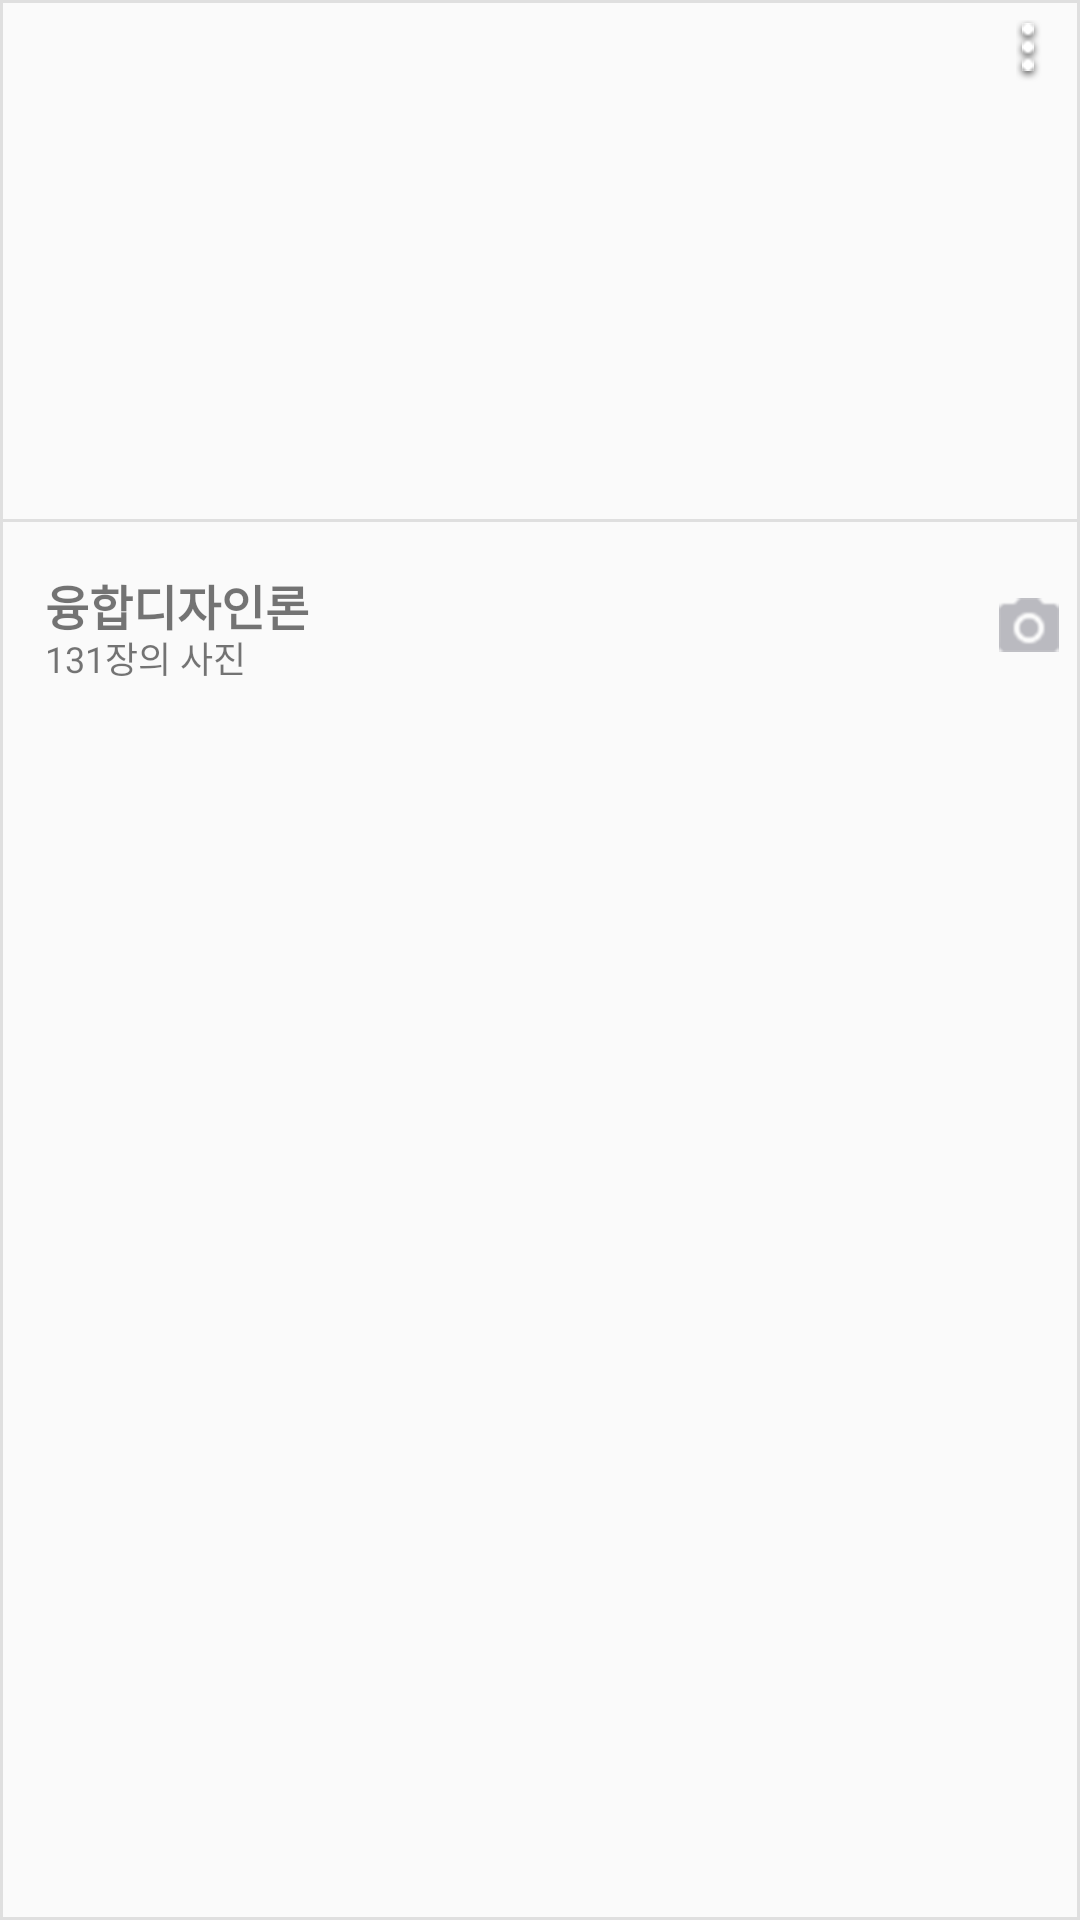

Icon click points for this 1080x1920 phone screenshot, format (x,y):
photo camera: (1029,625)
